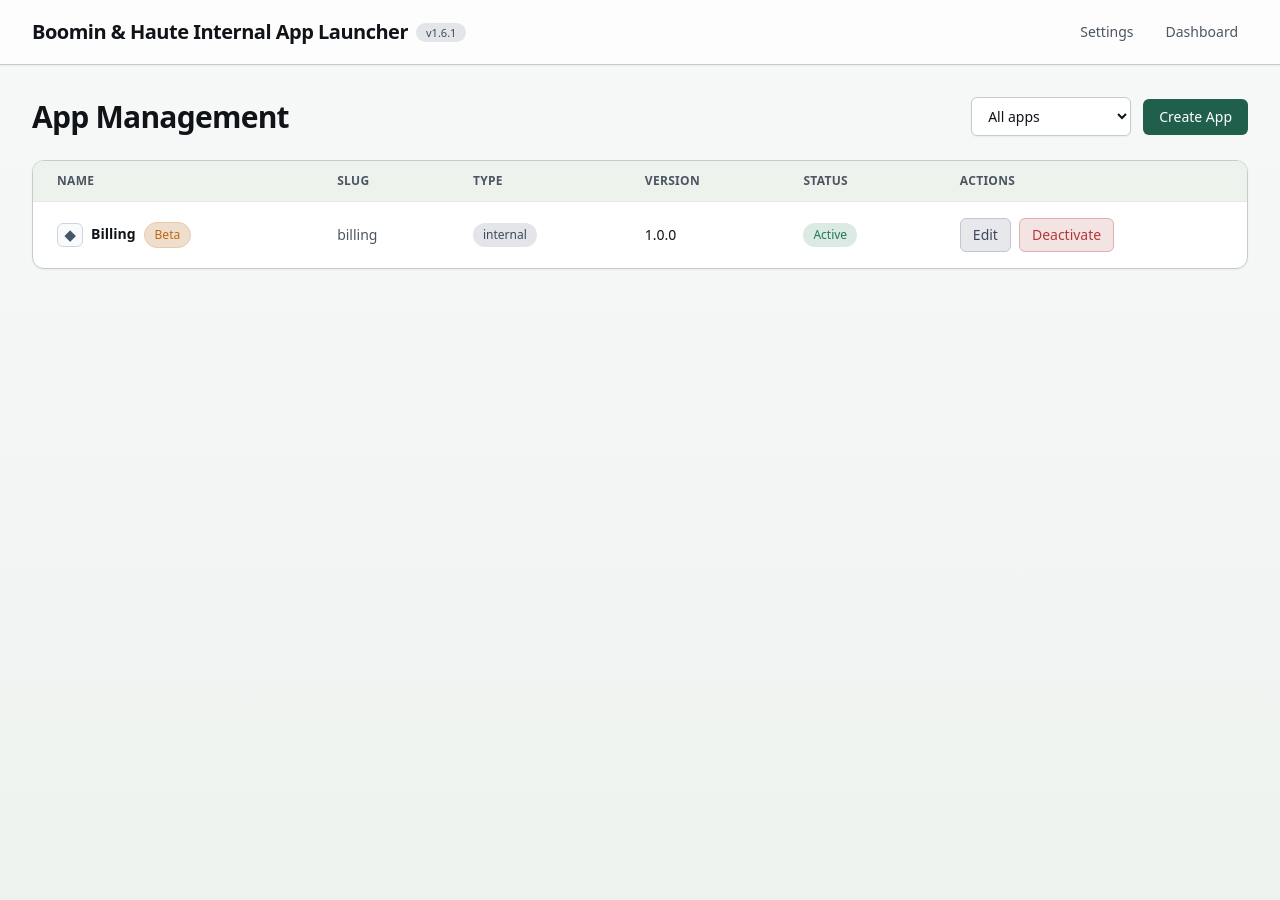
Scenario: AdminAppsPage modal close behavior › reopens create modal with clean default values
Expected: the heading "App Management" is shown, [32, 98, 289, 134]
Click the button "Create App".
click(1196, 116)  # box [1143, 98, 1248, 134]
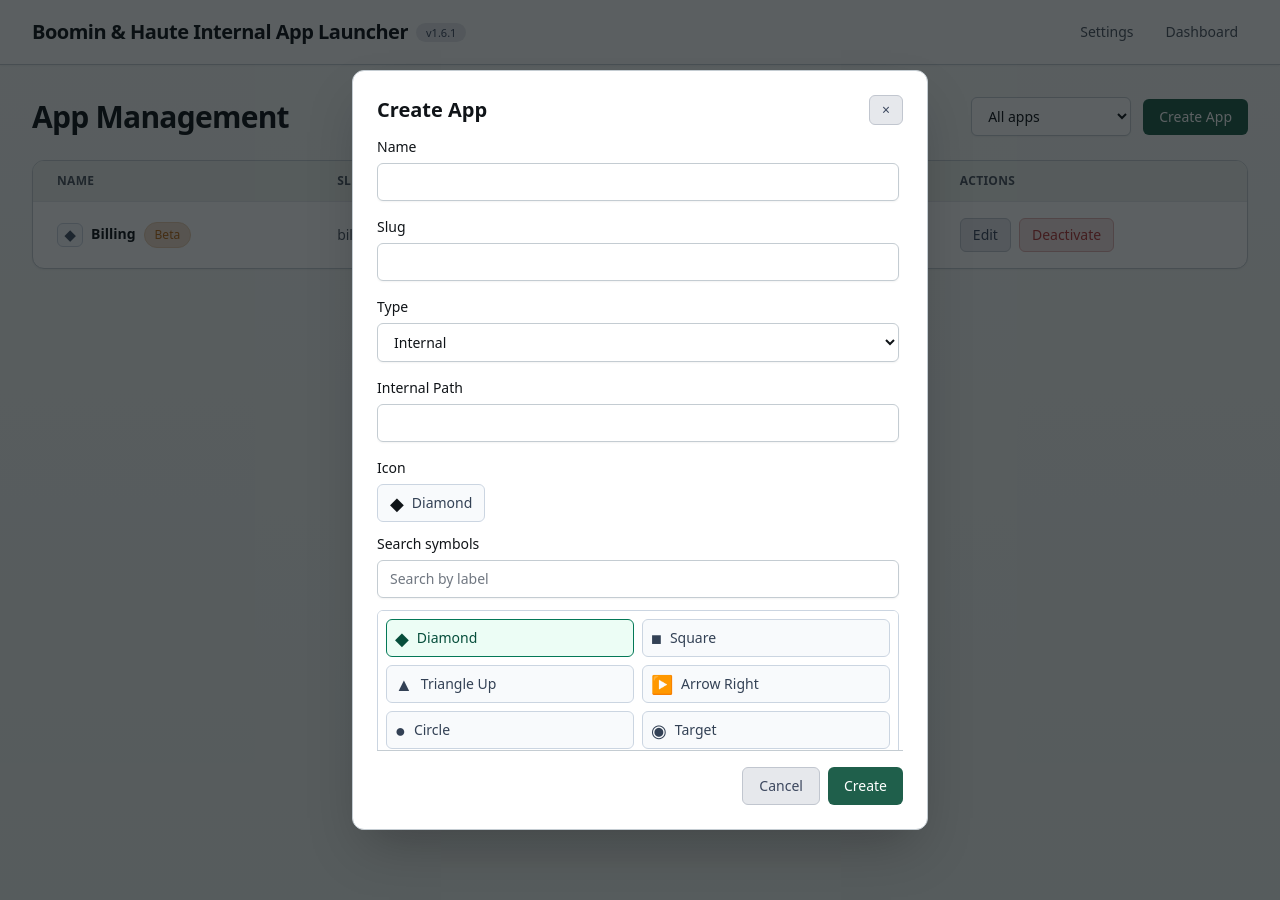
Type "Temporary Name" into the field labelled "Name".
click(638, 182); type("Temporary Name")  # box [377, 163, 899, 201]
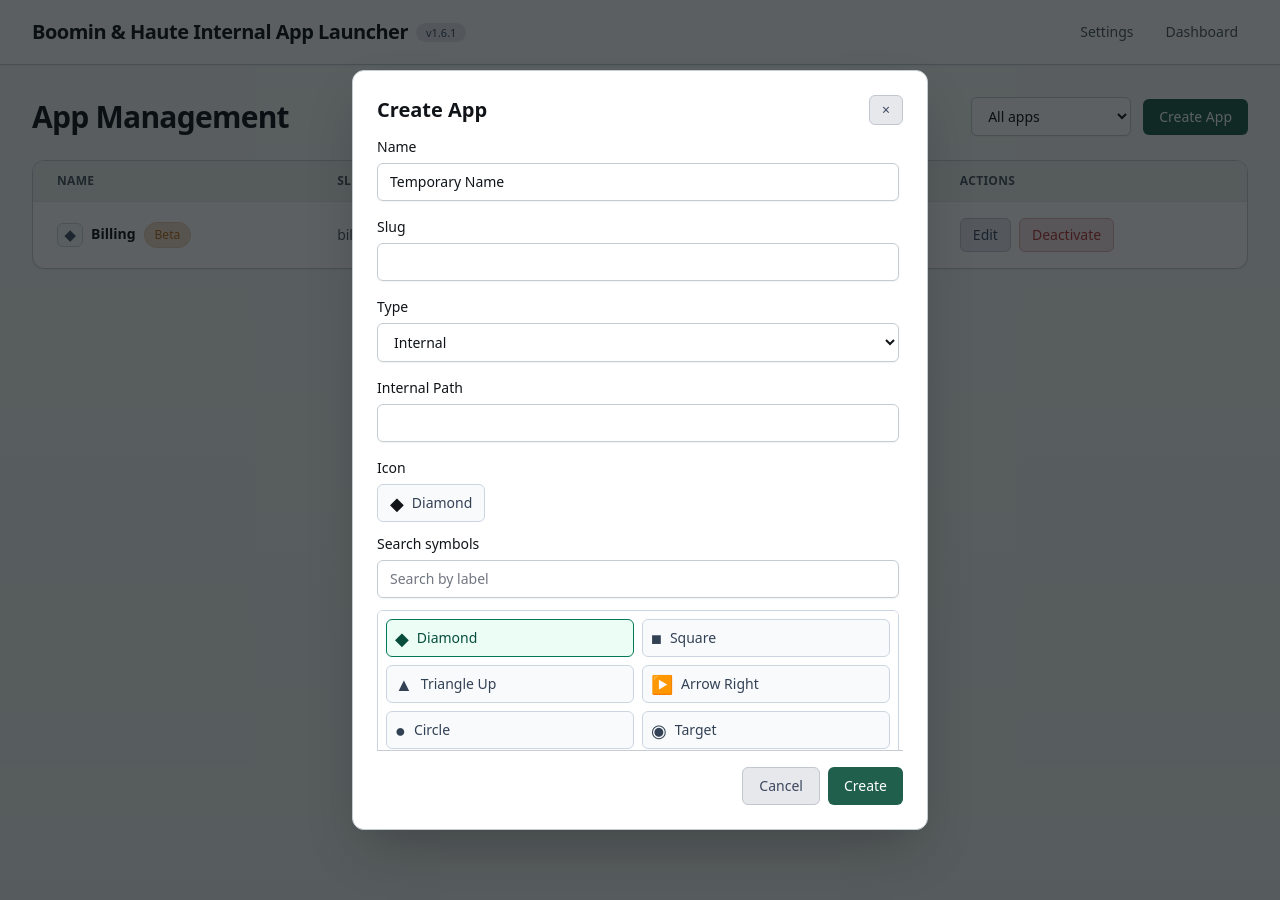
Type "temporary-slug" into the field labelled "Slug".
click(638, 262); type("temporary-slug")  # box [377, 243, 899, 281]
(page scrolled)
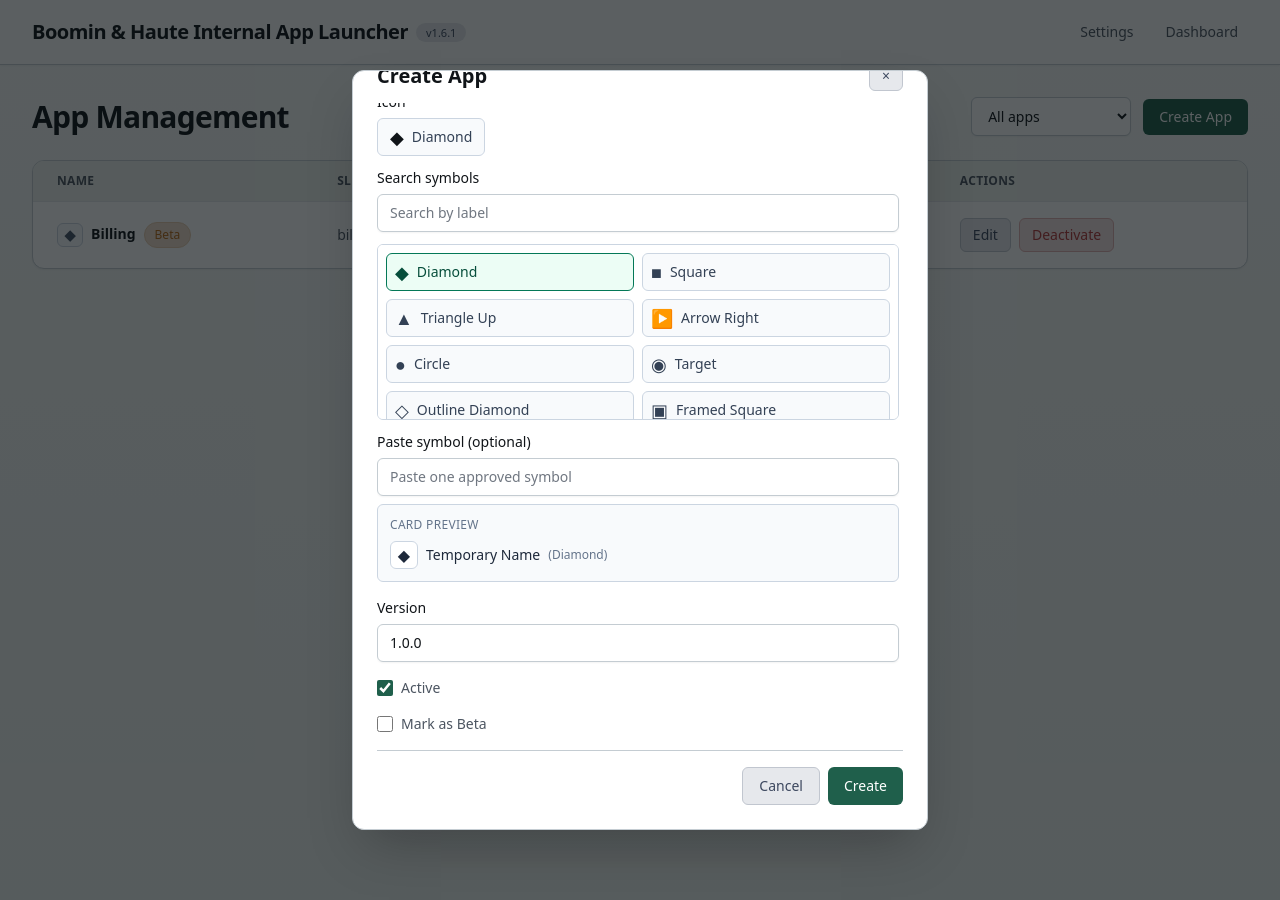
Click the checkbox labelled "Mark as Beta".
click(385, 724)  # box [377, 716, 393, 732]
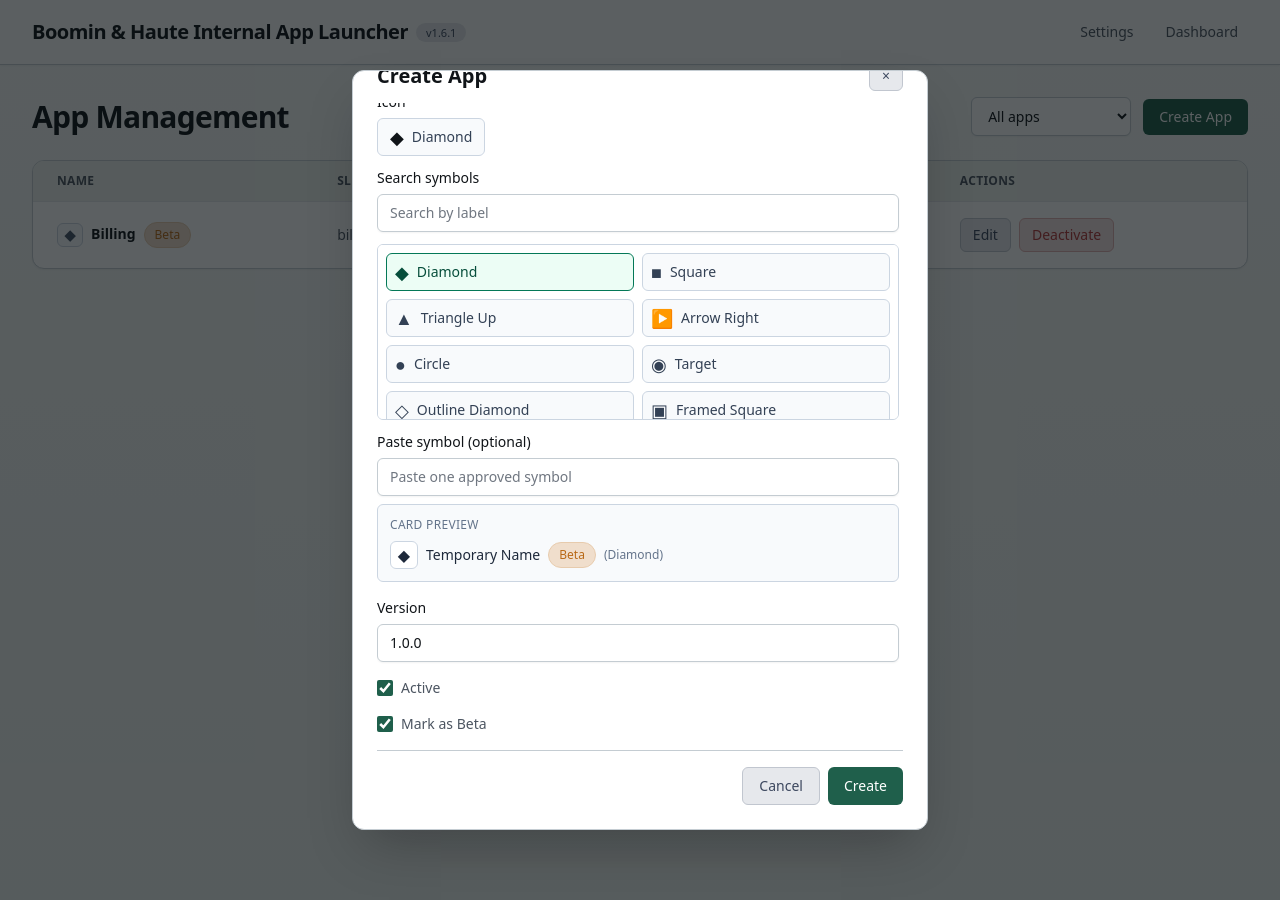
Click the button "Cancel".
click(781, 786)  # box [742, 767, 820, 805]
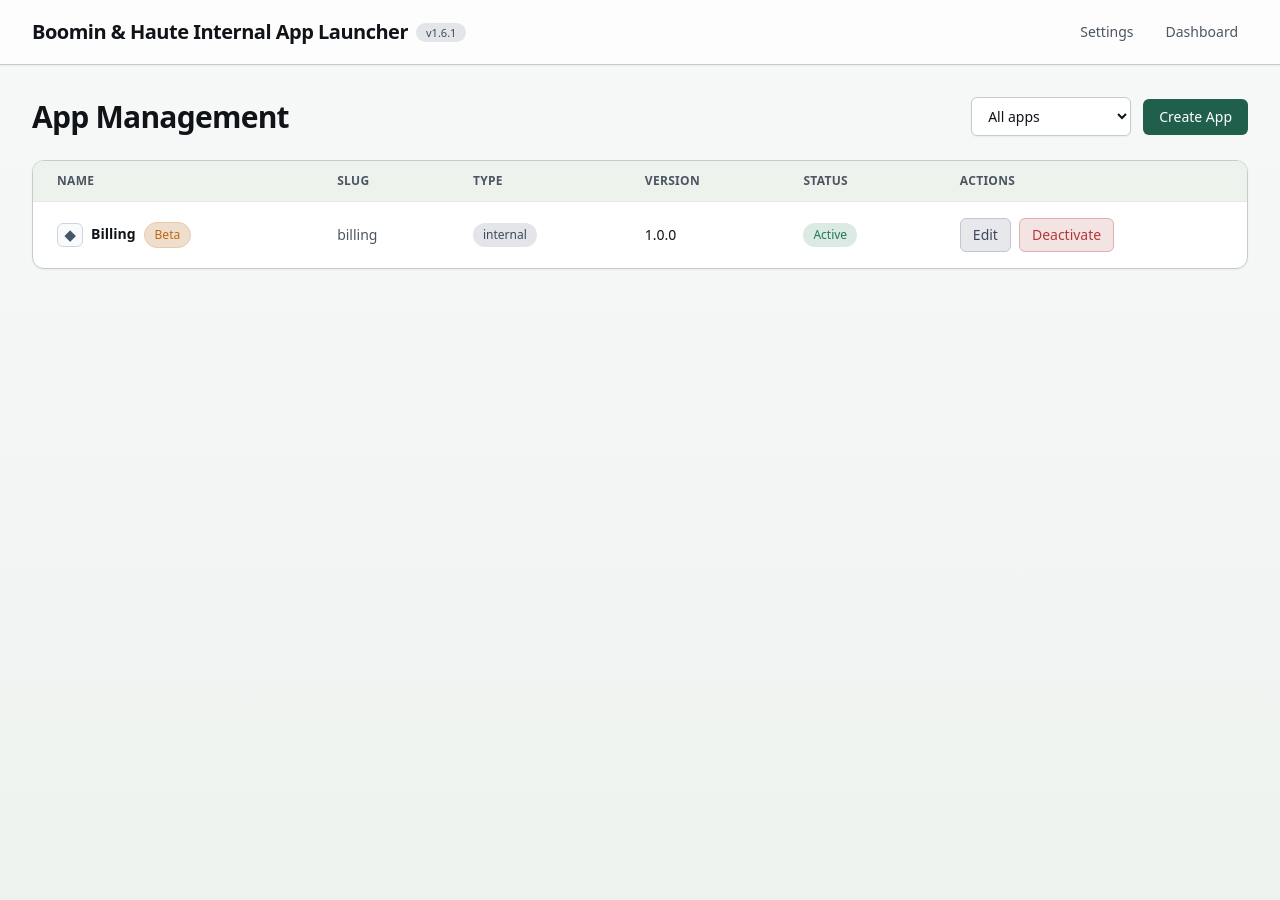
Click the button "Create App".
click(1196, 116)  # box [1143, 98, 1248, 134]
(page scrolled)
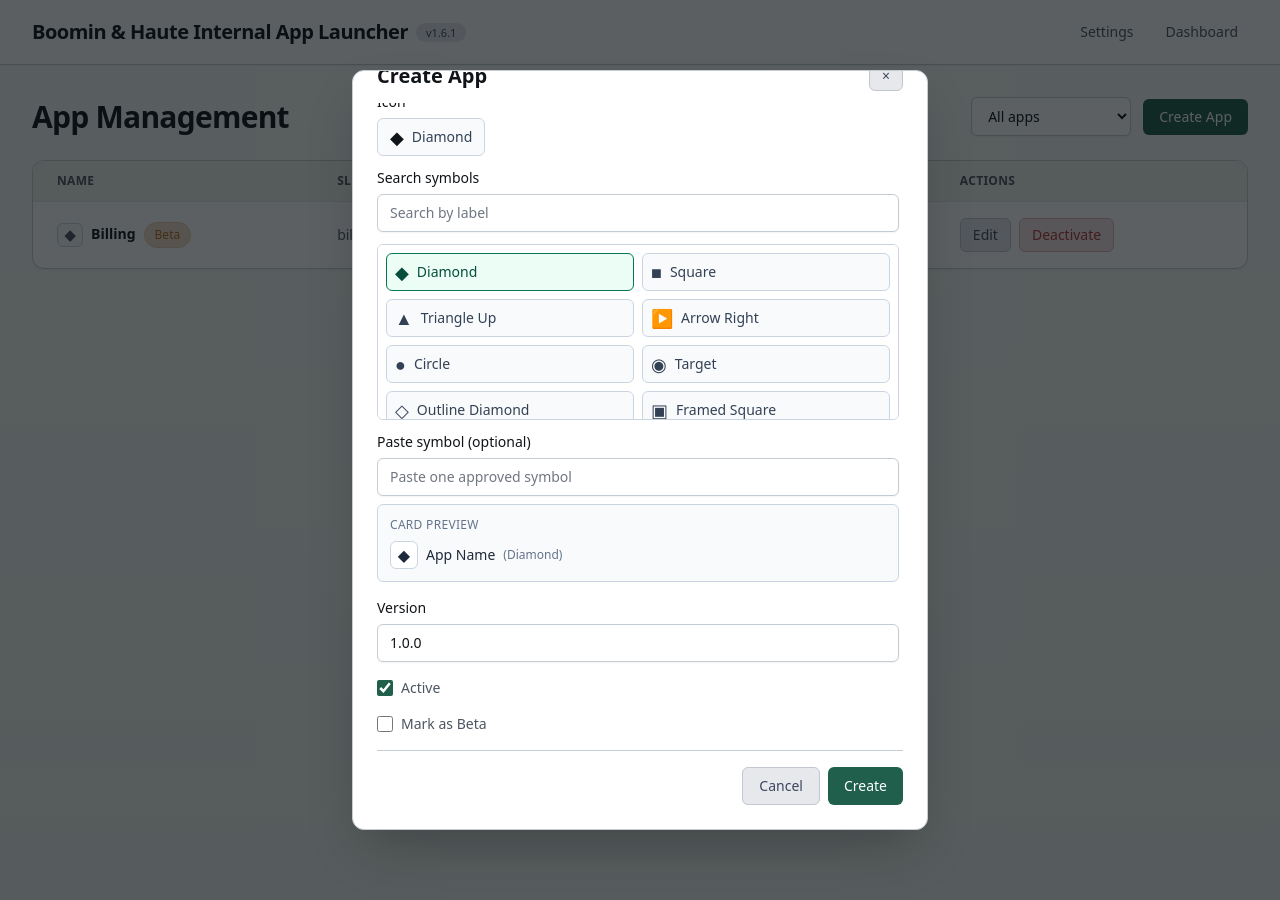
Now the checkbox labelled "Mark as Beta" is not checked, box [377, 716, 393, 732]
Now the checkbox labelled "Active" is checked, box [377, 680, 393, 696]
